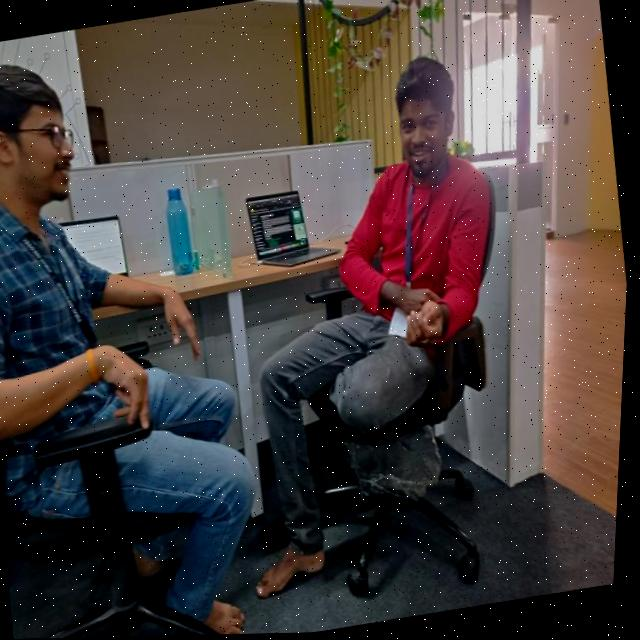id_card: (373, 179, 450, 337), (21, 218, 106, 360)
